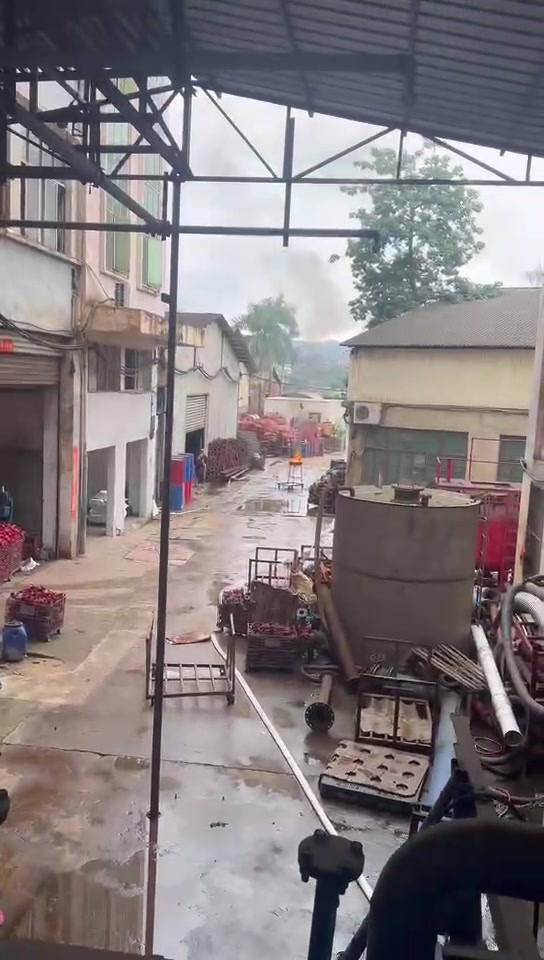fire: (289, 449, 302, 463)
